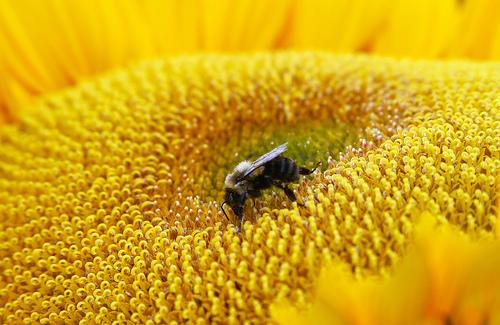sunflower: (1, 0, 500, 325)
